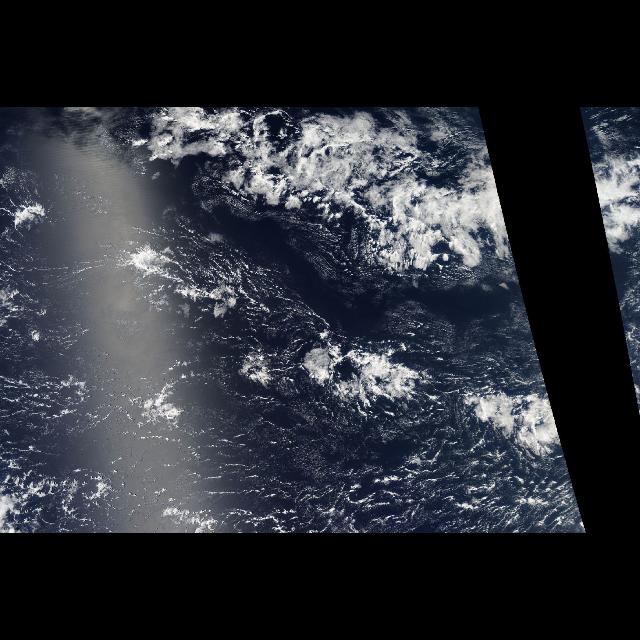Fish: (118, 116, 550, 406)
Gravel: (233, 381, 585, 533)
Sugar: (3, 180, 553, 528)
